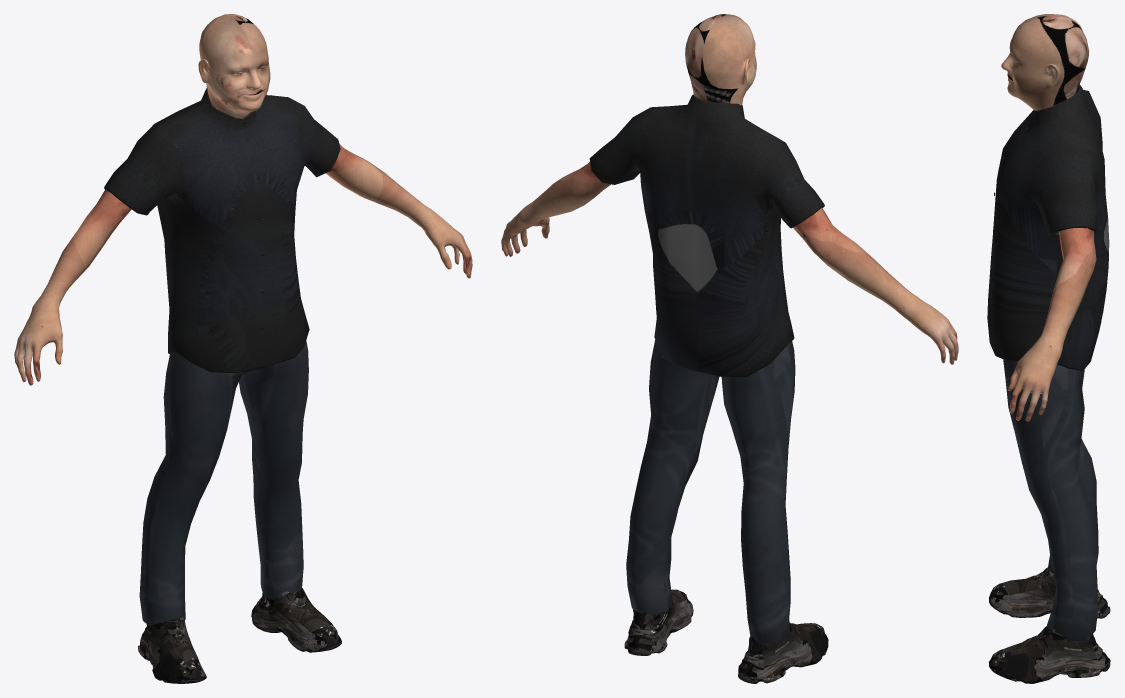
File: jcms.glb
3 renders of one model, left to right at view 1: azimuth 30°, elevation 25°; view 2: azimuth 150°, elevation 25°; view 3: azimuth 270°, elevation 25°, orthographic.
Parts seen in each view (by area): view 1: UnionAvatars_Top, UnionAvatars_Bottom, UnionAvatars_Body, UnionAvatars_Shoes, UnionAvatars_Head; view 2: UnionAvatars_Top, UnionAvatars_Bottom, UnionAvatars_Body, UnionAvatars_Shoes, UnionAvatars_Head; view 3: UnionAvatars_Top, UnionAvatars_Bottom, UnionAvatars_Shoes, UnionAvatars_Head, UnionAvatars_Body.
Part boxes in pixels (left/top/right/bottom): UnionAvatars_Top: left=104, top=88, right=340, bottom=373; UnionAvatars_Bottom: left=139, top=341, right=308, bottom=625; UnionAvatars_Body: left=14, top=144, right=472, bottom=385; UnionAvatars_Shoes: left=138, top=586, right=341, bottom=683; UnionAvatars_Head: left=198, top=14, right=270, bottom=119; UnionAvatars_Top: left=589, top=94, right=824, bottom=377; UnionAvatars_Bottom: left=626, top=340, right=795, bottom=644; UnionAvatars_Body: left=501, top=162, right=958, bottom=364; UnionAvatars_Shoes: left=624, top=589, right=828, bottom=683; UnionAvatars_Head: left=685, top=14, right=756, bottom=105; UnionAvatars_Top: left=987, top=84, right=1109, bottom=370; UnionAvatars_Bottom: left=1003, top=359, right=1098, bottom=641; UnionAvatars_Shoes: left=989, top=567, right=1110, bottom=683; UnionAvatars_Head: left=1001, top=14, right=1089, bottom=110; UnionAvatars_Body: left=1008, top=228, right=1096, bottom=421.
Bounding box in the file's own units: 1.33 × 1.79 × 0.3189.
Materials: 5 (5 with a texture image).
